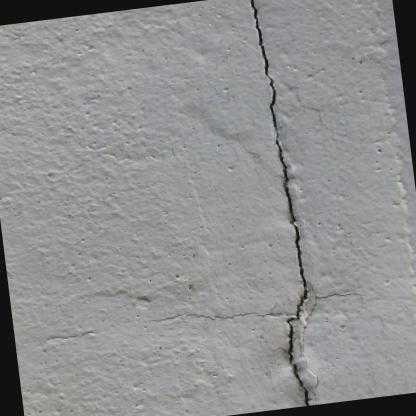crack: (249, 0, 310, 406)
